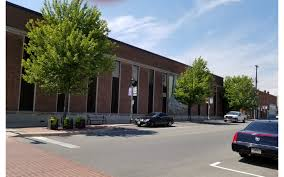tree: (19, 1, 120, 121), (173, 55, 217, 119), (223, 74, 260, 113)
